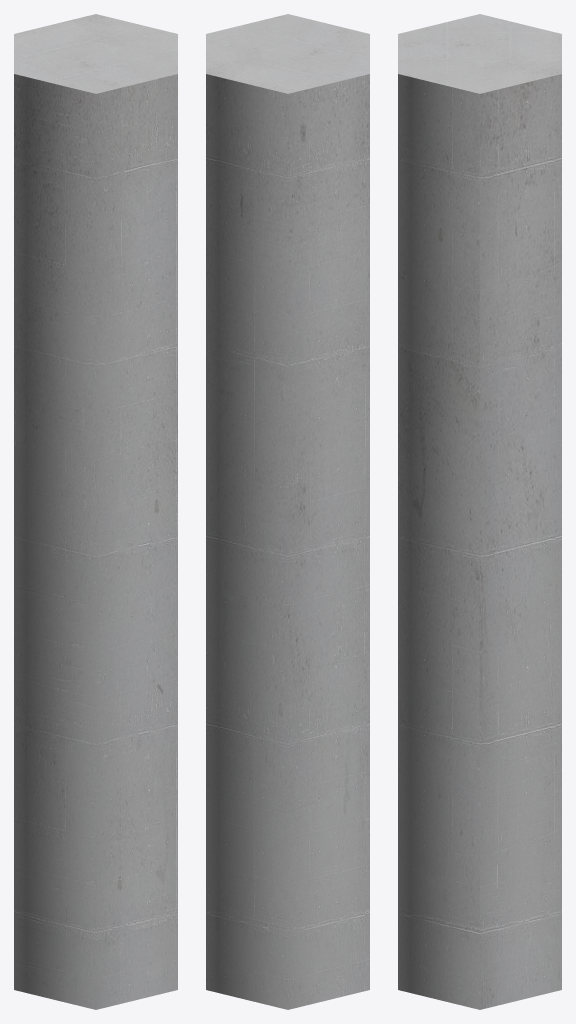
Rendered from aws_Column_01_visual.DAE.
The picture shows the model from 3 angles, left to right: view 1: azimuth 30°, elevation 25°; view 2: azimuth 150°, elevation 25°; view 3: azimuth 270°, elevation 25°; orthographic projection.
Visible parts, largest first — view 1: aws_Column_01_visual; view 2: aws_Column_01_visual; view 3: aws_Column_01_visual.
Part boxes in pixels (<box>): aws_Column_01_visual: <box>14,14,177,1009</box>; aws_Column_01_visual: <box>206,14,369,1009</box>; aws_Column_01_visual: <box>398,14,561,1009</box>.
Bounding box in the file's own units: 93.29 × 80.79 × 499.
Materials: 1 (1 with a texture image).
